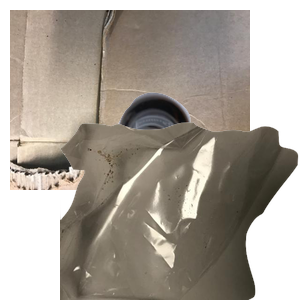cardboard: (10, 10, 250, 190)
glass: (115, 90, 300, 270)
plastic: (115, 176, 288, 300)
trash: (60, 120, 300, 300)
